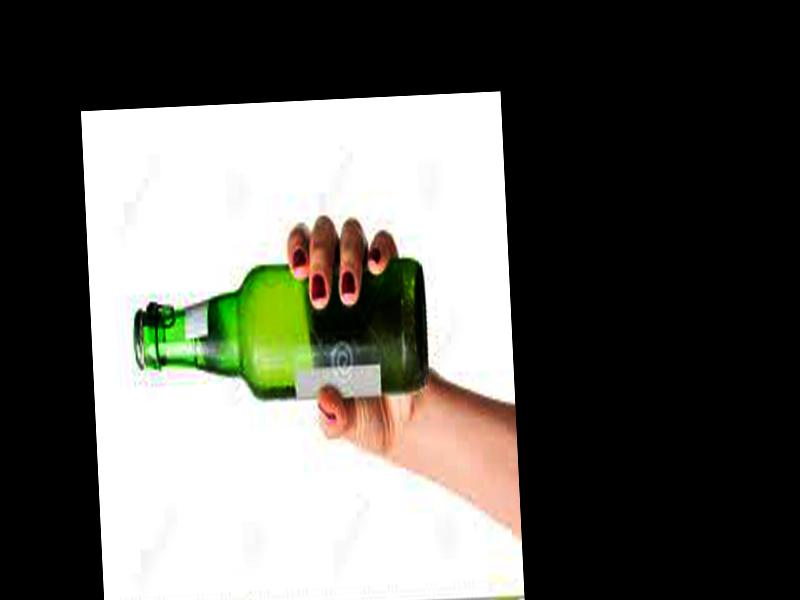Beer: (130, 249, 428, 411)
